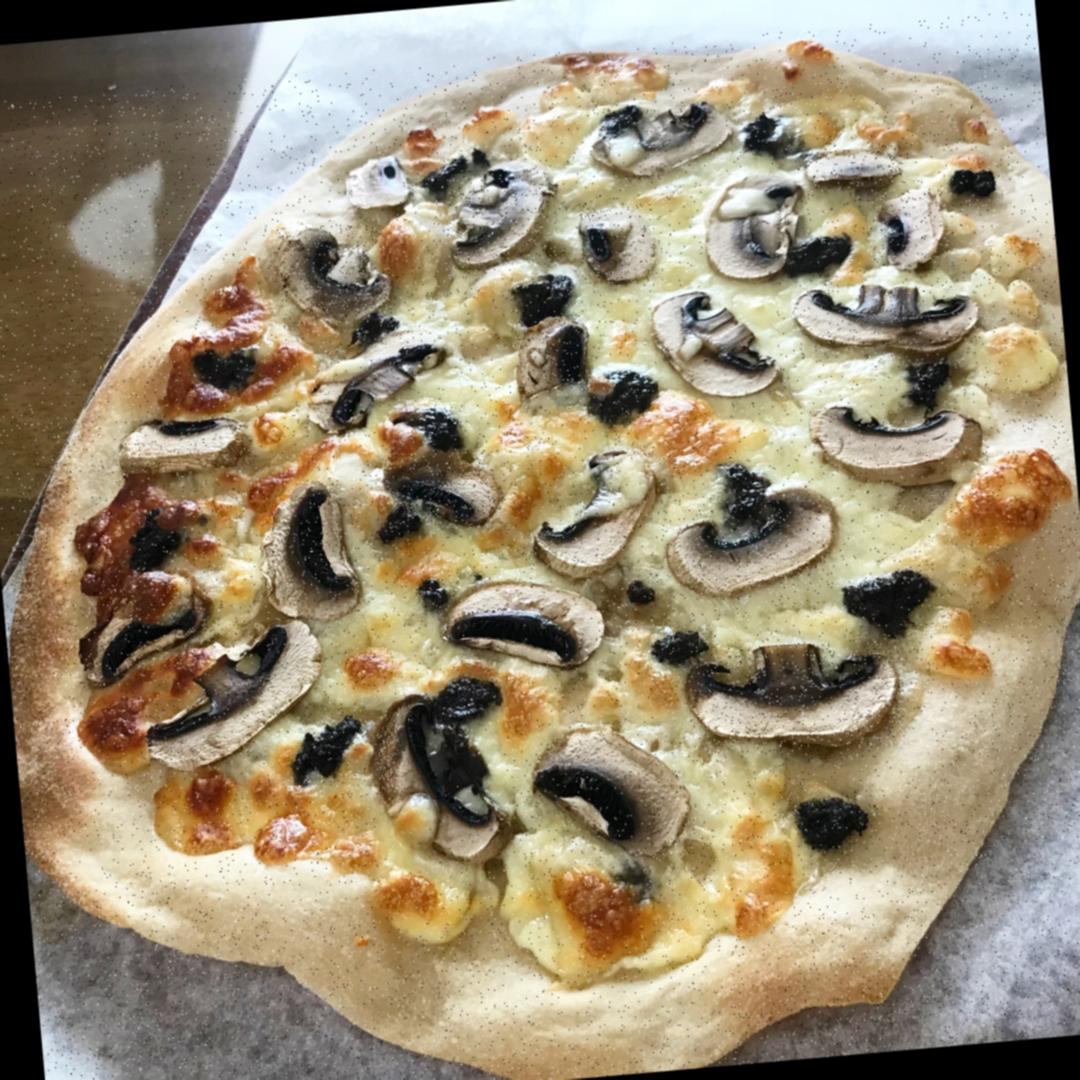Mushroom: (139, 618, 334, 780), (684, 634, 909, 762), (364, 687, 514, 876), (528, 719, 702, 874), (660, 480, 849, 608), (526, 443, 664, 584), (790, 273, 986, 372), (435, 579, 612, 679), (808, 386, 988, 480), (650, 284, 783, 410), (253, 479, 366, 621), (304, 336, 458, 435), (69, 589, 218, 688), (700, 165, 808, 288), (446, 166, 560, 276), (275, 221, 393, 326), (590, 96, 734, 178), (383, 446, 504, 536), (118, 412, 250, 480), (576, 201, 659, 286), (511, 312, 591, 392), (874, 187, 951, 270), (804, 144, 906, 193), (344, 155, 415, 216)
Pizza: (0, 10, 1080, 1080)
